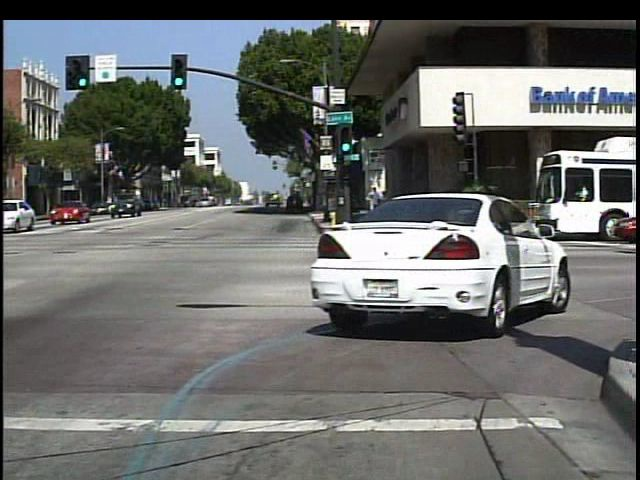person: (368, 182, 387, 222)
